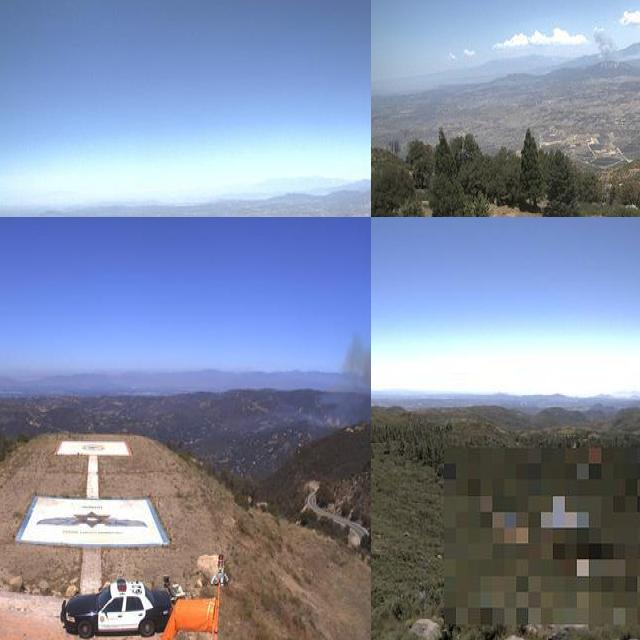smoke: (327, 329, 371, 431), (588, 24, 625, 69)
